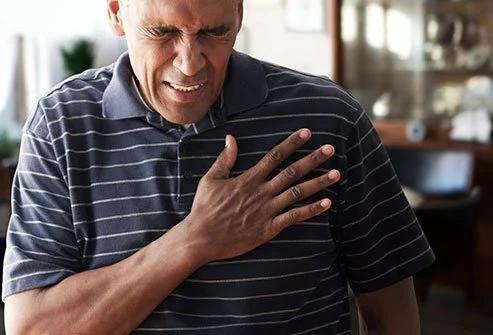pain: (139, 19, 234, 50)
